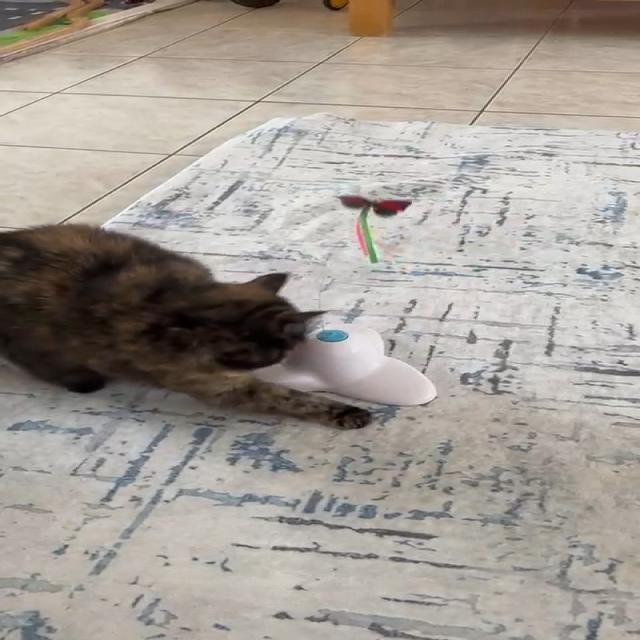authorized: (0, 222, 372, 430)
